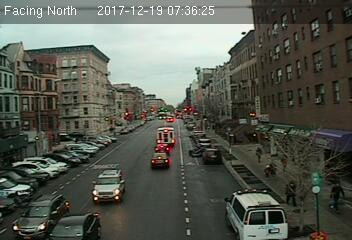car: (11, 192, 68, 238), (93, 168, 126, 204), (150, 151, 170, 170), (200, 148, 220, 162)
pedestrian: (329, 182, 344, 215), (285, 180, 297, 206)
police: (222, 185, 292, 239)
